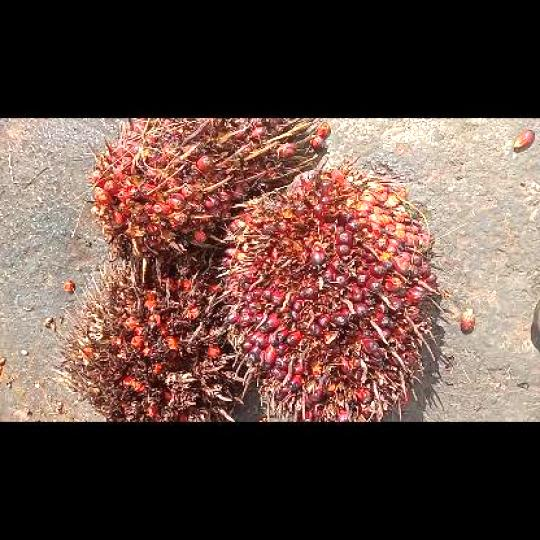masak: (213, 158, 444, 420), (90, 118, 318, 279)
terlalu masak: (51, 260, 242, 420)
